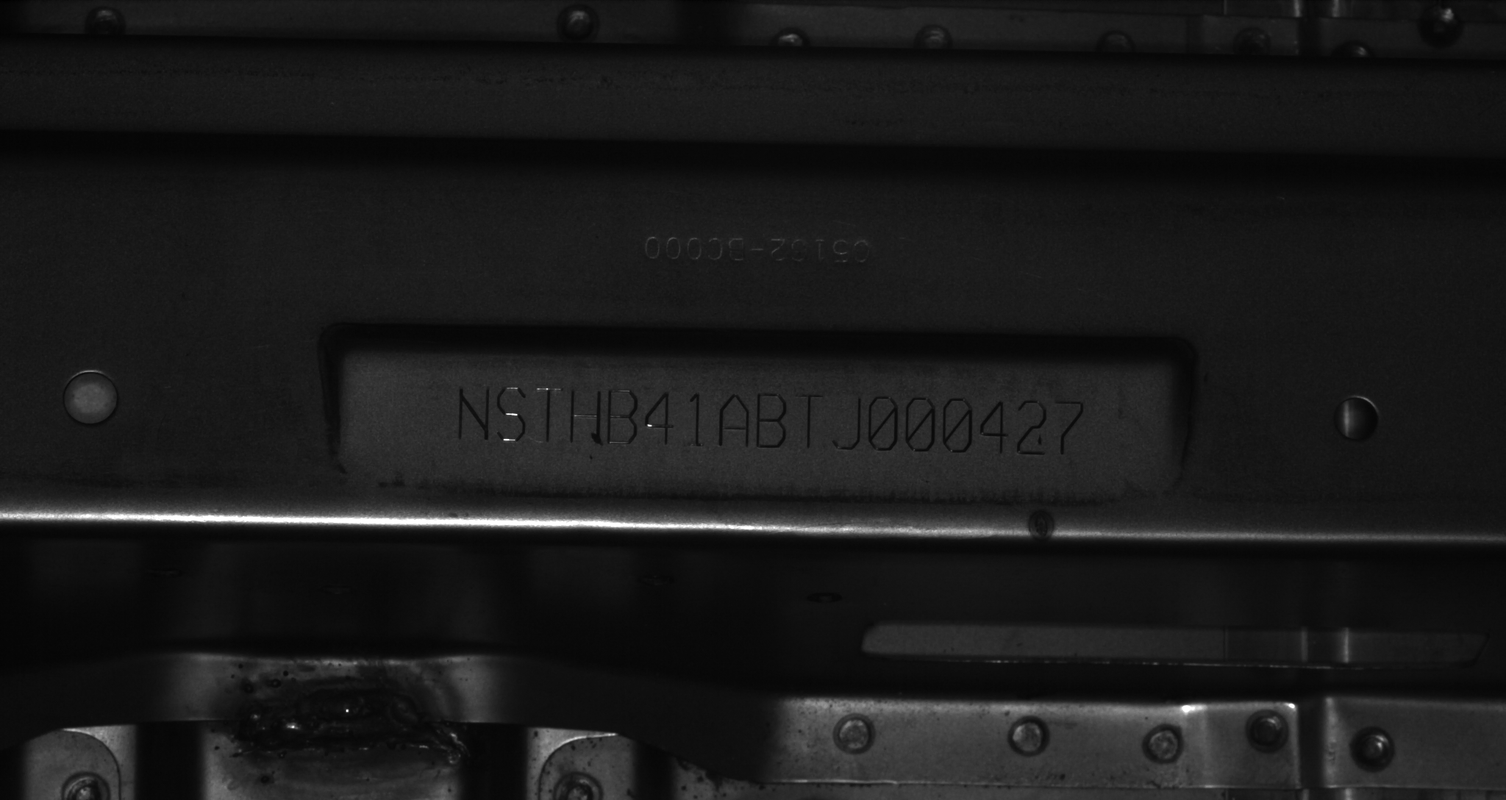bl7m_vin_plate: (338, 343, 1181, 504)
